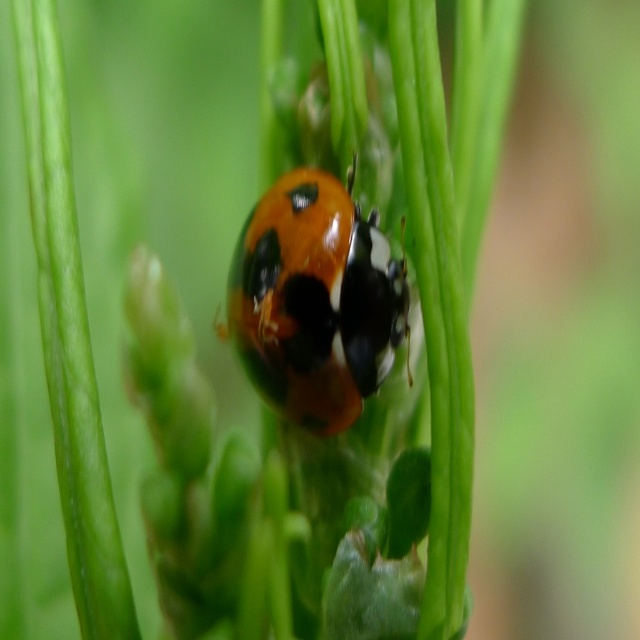Ladybug: (228, 170, 416, 434)
